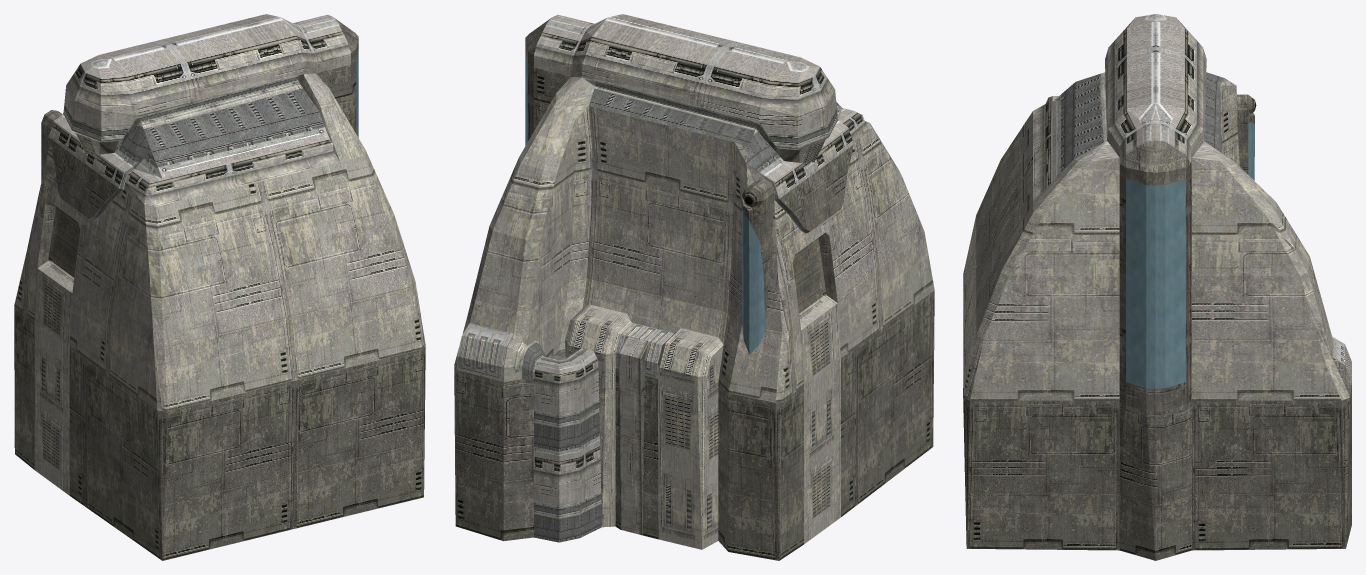
The model's file is ins_all_factory_organic_l1.fbx.
3 renders of one model, left to right at view 1: azimuth 30°, elevation 25°; view 2: azimuth 150°, elevation 25°; view 3: azimuth 270°, elevation 25°, orthographic. The views are drawn at different scales.
Parts seen in each view (by area): view 1: mesh_node; view 2: mesh_node; view 3: mesh_node.
Boxes of the visible parts, x1,y1,x2,y2 form: mesh_node: [14, 14, 425, 560]; mesh_node: [454, 14, 934, 560]; mesh_node: [963, 14, 1351, 560].
Bounding box in the file's own units: 6.62 × 9.21 × 7.68.
